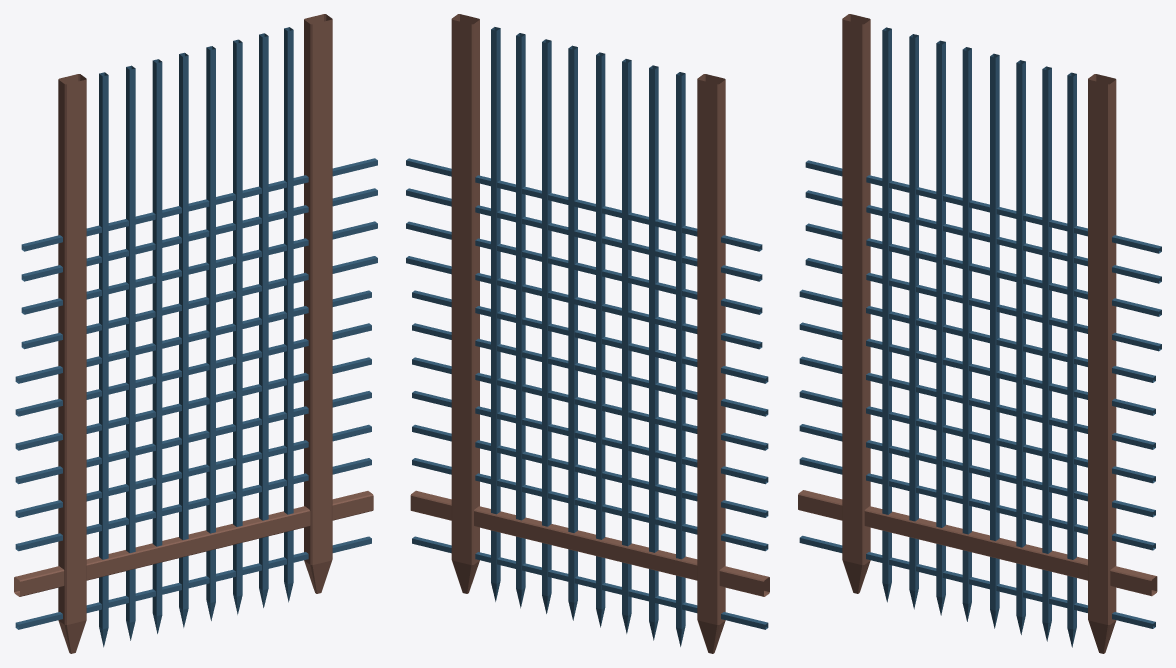
The model's file is portonEntero.fbx.
3 renders of one model, left to right at view 1: azimuth 30°, elevation 25°; view 2: azimuth 150°, elevation 25°; view 3: azimuth 330°, elevation 25°, orthographic.
Visible parts, largest first — view 1: citadel_gate; view 2: citadel_gate; view 3: citadel_gate.
Part boxes in pixels (left/top/right/bottom): citadel_gate: left=14, top=14, right=377, bottom=653; citadel_gate: left=406, top=14, right=769, bottom=653; citadel_gate: left=798, top=14, right=1161, bottom=653.
Bounding box in the file's own units: 872 × 1336 × 32.58.
